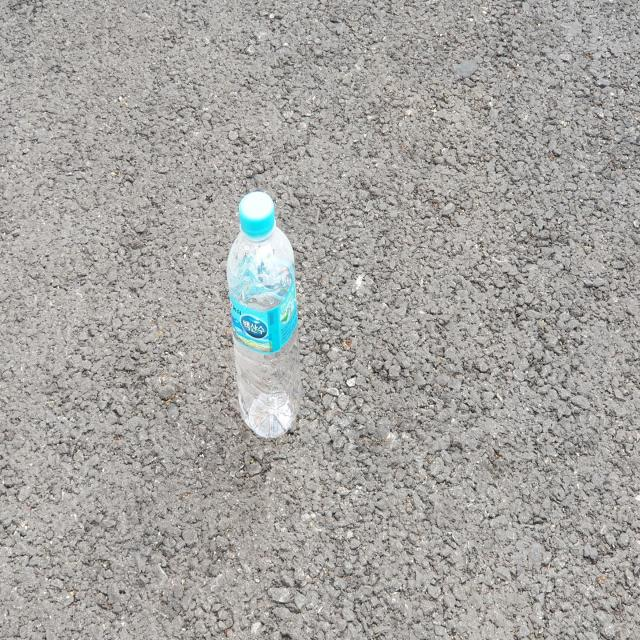plastic: (227, 191, 301, 438)
